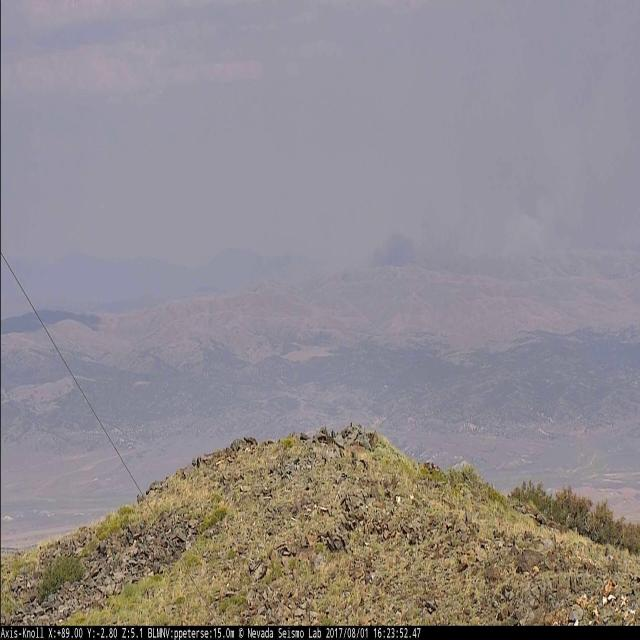smoke: (366, 0, 640, 268)
